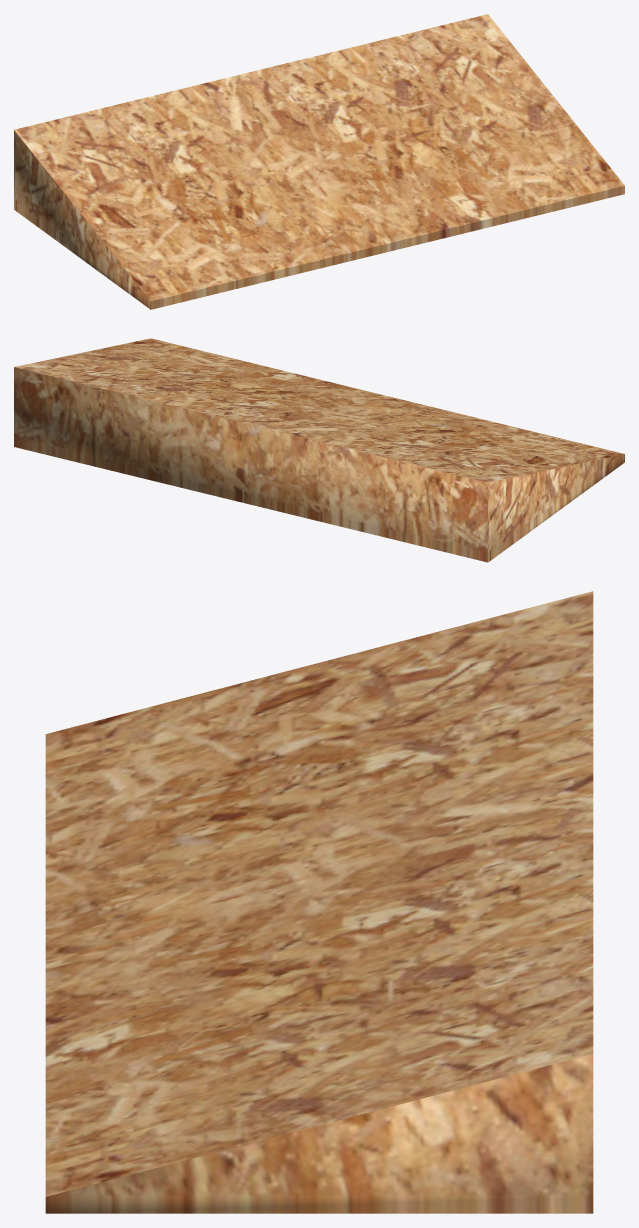
File: half_ramp_elevated_1.dae
3 renders of one model, top to bottom at view 1: azimuth 30°, elevation 25°; view 2: azimuth 150°, elevation 25°; view 3: azimuth 270°, elevation 25°, orthographic. The views are drawn at different scales.
Parts seen in each view (by area): view 1: Plane; view 2: Plane; view 3: Plane.
Boxes of the visible parts, left/top/right/bottom form: Plane: left=14, top=14, right=624, bottom=309; Plane: left=14, top=338, right=624, bottom=562; Plane: left=45, top=591, right=593, bottom=1213.
Bounding box in the file's own units: 1.18 × 0.59 × 0.1901.
Materials: 1 (1 with a texture image).
